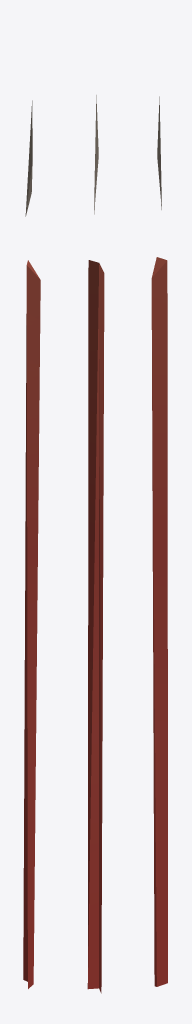
File: Speer_LOD0.dae
3 views of the same model, side by side, from view 1: azimuth 90°, elevation 25°; view 2: azimuth 150°, elevation 25°; view 3: azimuth 330°, elevation 25° (orthographic).
Parts seen in each view (by area): view 1: Speer_LOD0; view 2: Speer_LOD0; view 3: Speer_LOD0.
Part boxes in pixels (x1,y1,x2,y2): Speer_LOD0: [23, 100, 40, 988]; Speer_LOD0: [87, 95, 104, 993]; Speer_LOD0: [151, 96, 167, 986].
Size of the model in its own units: 0.0456 by 0.0352 by 2.2.
1 material, 1 textured.
